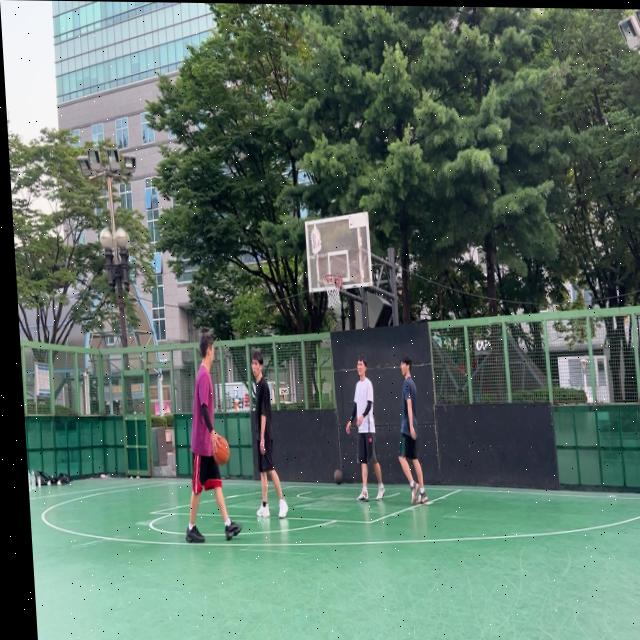basketball: (211, 436, 231, 466), (333, 468, 344, 485)
hoop: (323, 273, 344, 310)
